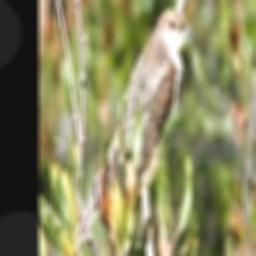Cuckoo: (69, 9, 194, 256)
